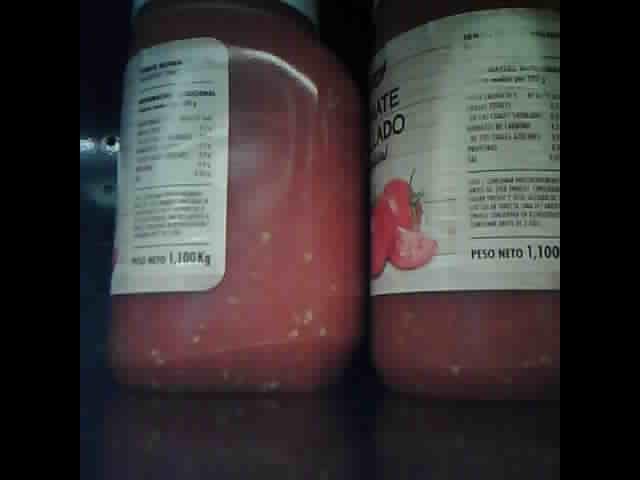tomate: (111, 1, 365, 396), (367, 4, 560, 394)
